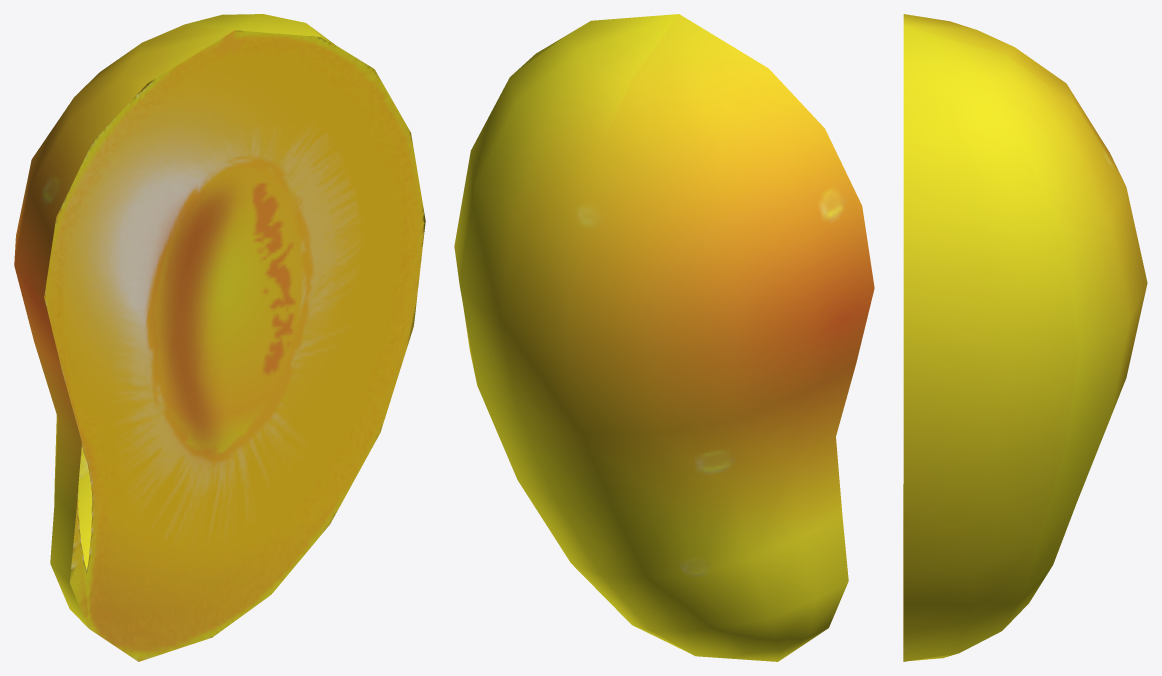
The model's file is mangos.FBX.
3 views of the same model, side by side, from view 1: azimuth 30°, elevation 25°; view 2: azimuth 150°, elevation 25°; view 3: azimuth 270°, elevation 25° (orthographic). The views are drawn at different scales.
Parts seen in each view (by area): view 1: Mango003; view 2: Mango003; view 3: Mango003.
Boxes of the visible parts, x1,y1,x2,y2 form: Mango003: [14, 14, 425, 661]; Mango003: [454, 14, 874, 661]; Mango003: [903, 14, 1147, 661].
Size of the model in its own units: 7.68 by 11.7 by 3.95.
